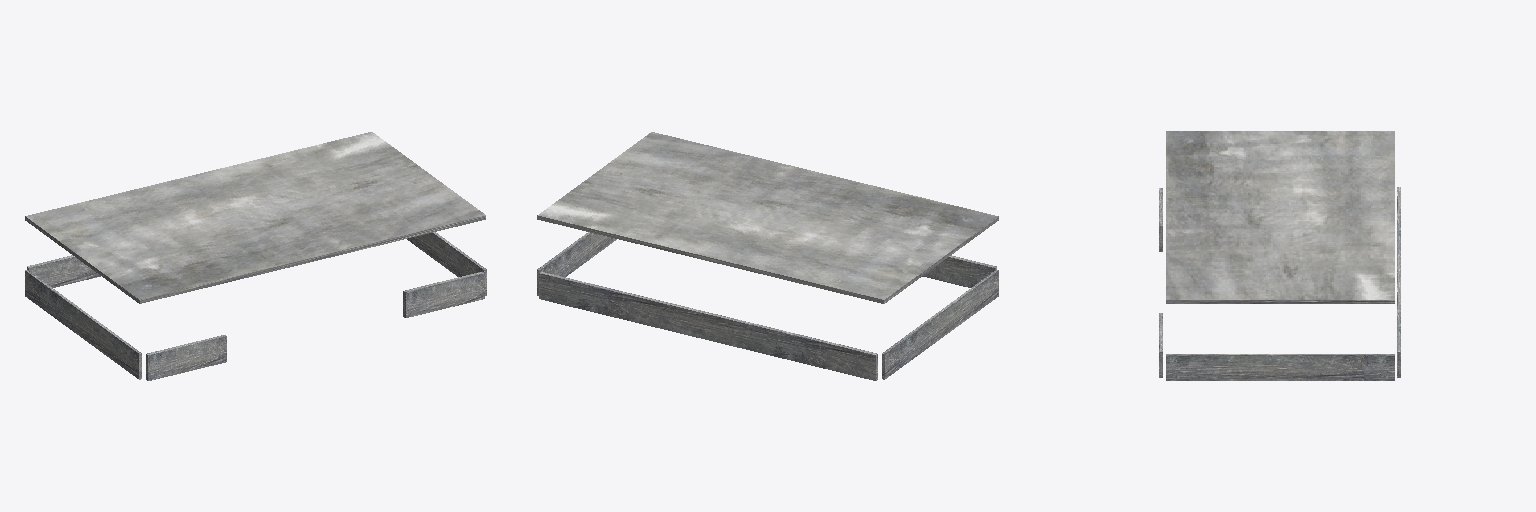
3 renders of one model, left to right at view 1: azimuth 30°, elevation 25°; view 2: azimuth 150°, elevation 25°; view 3: azimuth 270°, elevation 25°, orthographic.
Parts seen in each view (by area): view 1: vidrio1:pCube4; view 2: vidrio1:pCube4; view 3: vidrio1:pCube4.
Boxes of the visible parts, box(x1,y1,x2,y2) form: vidrio1:pCube4: box(25, 132, 486, 380); vidrio1:pCube4: box(537, 132, 998, 380); vidrio1:pCube4: box(1159, 131, 1400, 380).
Size of the model in its own units: 176 by 38.79 by 106.
3 materials, 1 textured.